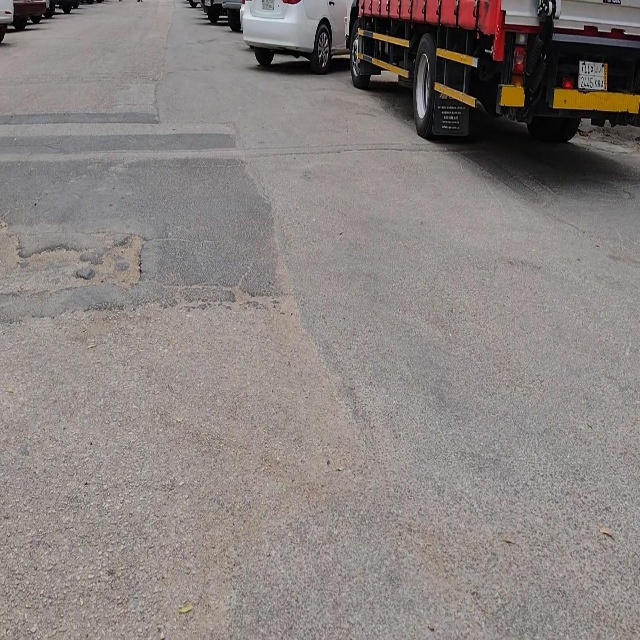pothole: (93, 232, 148, 290), (18, 247, 83, 292)
